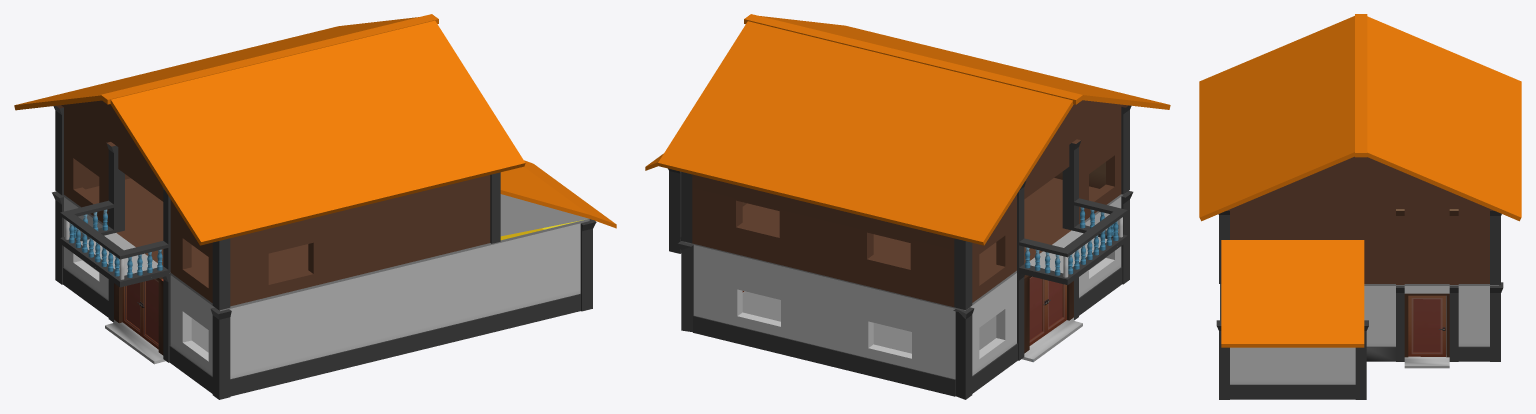
File: SM_lao_House_Two_Floor 1.fbx
3 renders of one model, left to right at view 1: azimuth 30°, elevation 25°; view 2: azimuth 150°, elevation 25°; view 3: azimuth 270°, elevation 25°, orthographic. The views are drawn at different scales.
Visible parts, largest first — view 1: Roof_Mash, Main_Floor_1_Mash, Main_Floor_2_Mash, Front_Door_Mash.002, Fornt_Door_Mash.003; view 2: Roof_Mash, Main_Floor_2_Mash, Main_Floor_1_Mash, Fornt_Door_Mash.003, Front_Door_Mash.002; view 3: Roof_Mash, Main_Floor_2_Mash, Main_Floor_1_Mash, Back_Door_Mash.
Boxes of the visible parts, x1=… form: Roof_Mash: x1=14, y1=14, x2=525, y2=245; Main_Floor_1_Mash: x1=52, y1=191, x2=596, y2=399; Main_Floor_2_Mash: x1=53, y1=105, x2=616, y2=311; Front_Door_Mash.002: x1=141, y1=279, x2=158, y2=349; Fornt_Door_Mash.003: x1=122, y1=282, x2=141, y2=336; Roof_Mash: x1=658, y1=14, x2=1170, y2=245; Main_Floor_2_Mash: x1=645, y1=105, x2=1131, y2=310; Main_Floor_1_Mash: x1=668, y1=168, x2=1133, y2=399; Fornt_Door_Mash.003: x1=1029, y1=276, x2=1047, y2=345; Front_Door_Mash.002: x1=1046, y1=280, x2=1066, y2=334; Roof_Mash: x1=1199, y1=14, x2=1521, y2=221; Main_Floor_2_Mash: x1=1218, y1=209, x2=1501, y2=347; Main_Floor_1_Mash: x1=1216, y1=282, x2=1503, y2=399; Back_Door_Mash: x1=1408, y1=295, x2=1445, y2=356.
Bounding box in the file's own units: 9.93 × 5.37 × 7.19.
